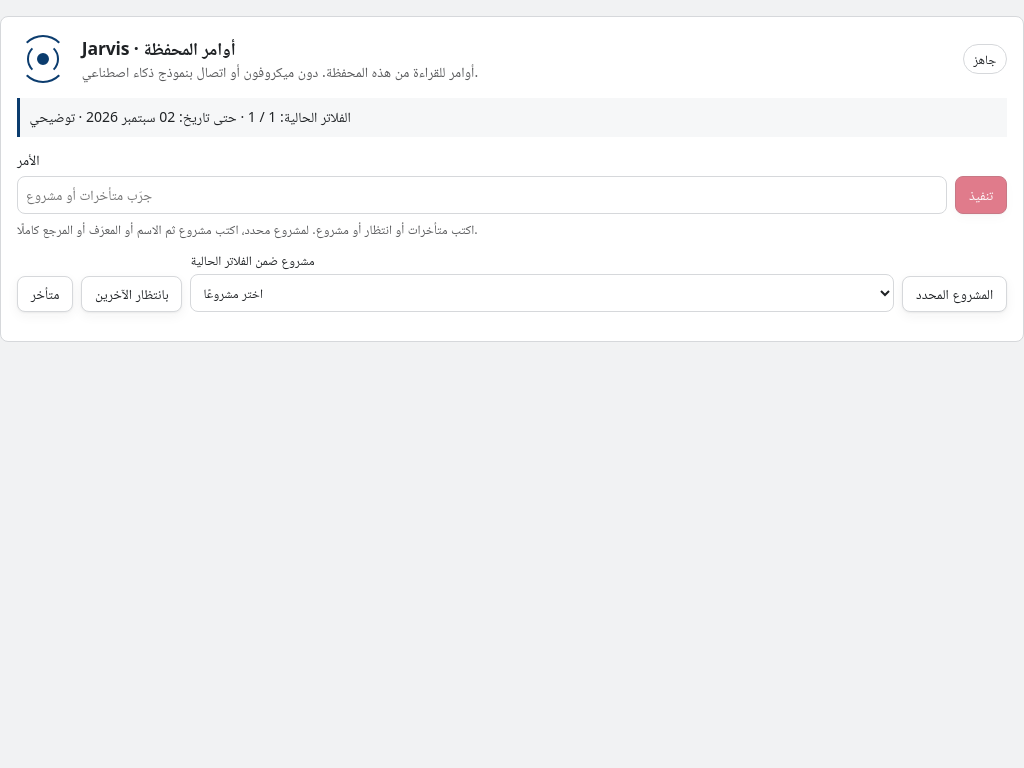
Jarvis panel integration › accepts Arabic commands and refuses date calculations for an invalid report date
Later steps or results of the test are not shown.
Type "متأخرات" into the field labelled "الأمر" at (482, 195), box [17, 176, 947, 214]
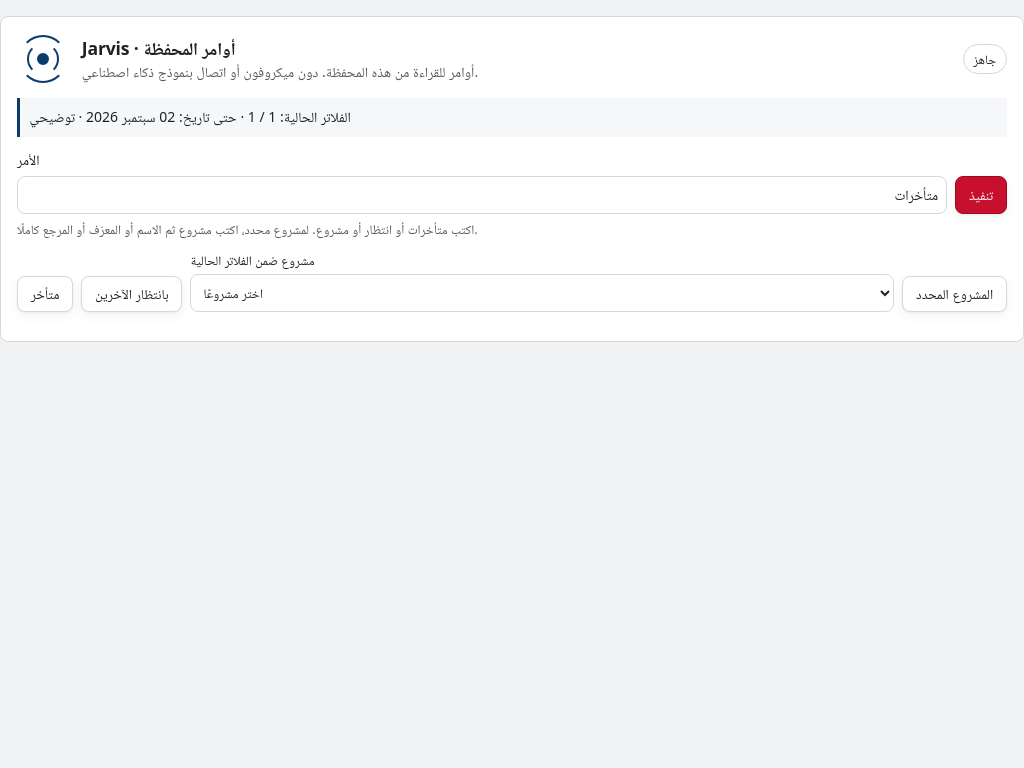
Submit the form "تنفيذ", box [17, 150, 1007, 238]
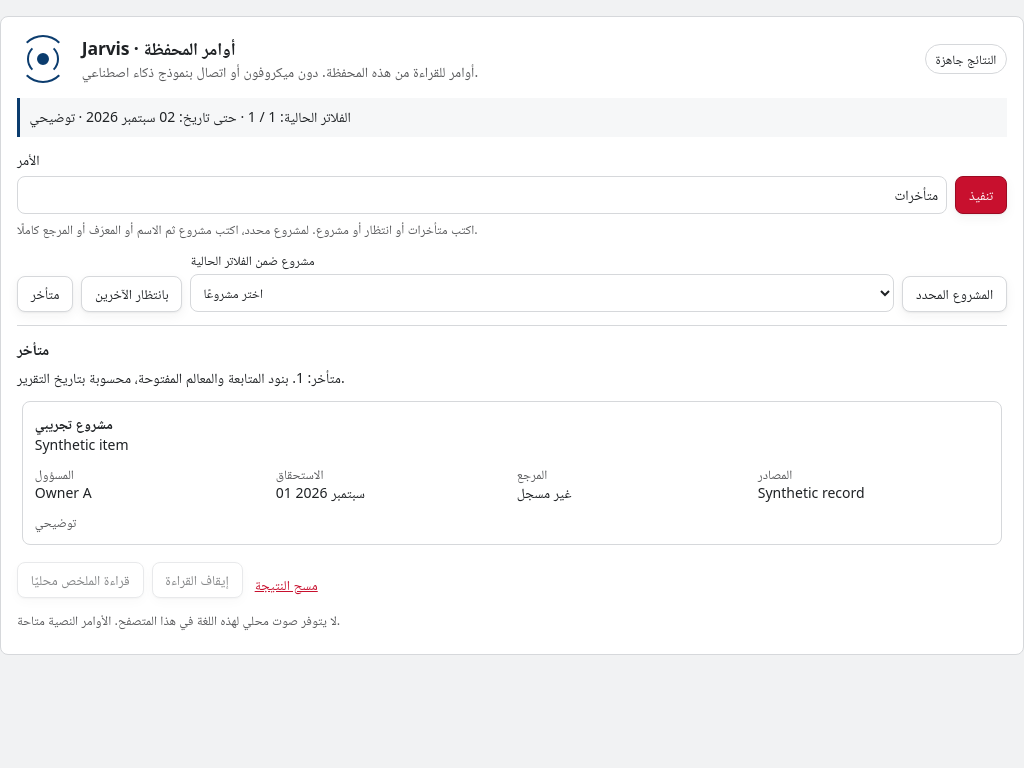
Check: the button "مشروع تجريبي" is shown, box [35, 414, 113, 435]
